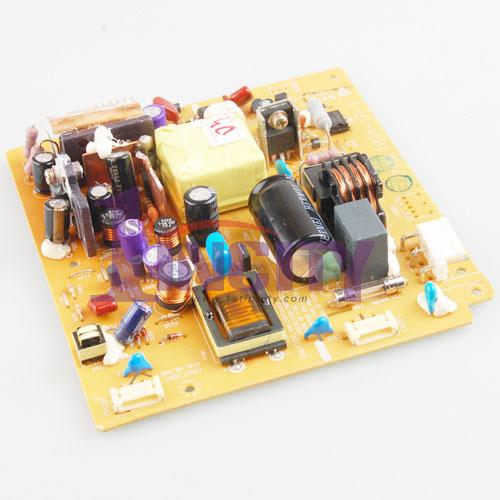capacitor: (248, 175, 338, 285), (183, 185, 222, 245), (107, 153, 141, 210), (115, 299, 151, 347), (88, 184, 118, 230), (44, 198, 71, 244), (32, 152, 55, 194), (142, 246, 170, 268), (144, 105, 168, 126)
resistor: (306, 95, 333, 131)
